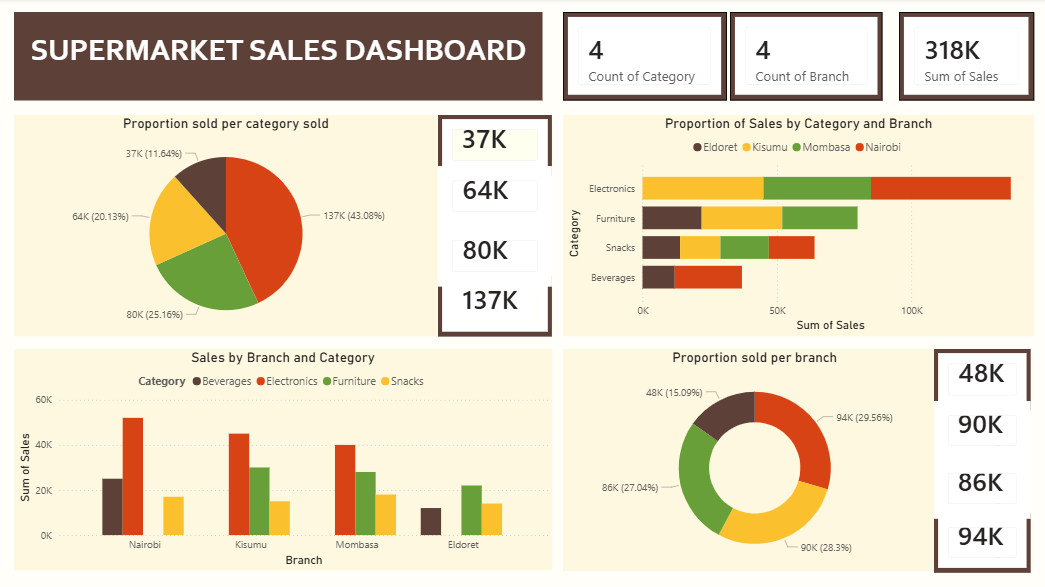

The page's visual inventory and layout, read from the dashboard file:
{"tool":"powerbi","page":{"name":"Sales","canvas":[1280,720],"ordinal":0},"visuals":[{"type":"cardVisual","fields":{"Data":["Sum(Sheet1.Sales)"]},"box":[1098.6,16.8,164.6,107.5],"z":0},{"type":"clusteredColumnChart","title":"Sales by Branch and Category","fields":{"Y":["Sum(Sheet1.Sales)"],"Category":["Sheet1.Branch"],"Series":["Sheet1.Category"]},"box":[18.5,428.3,656.8,270.4],"z":1000},{"type":"pieChart","title":"Proportion product category sold","fields":{"Category":["Sheet1.Category"],"Y":["Sum(Sheet1.Sales)"]},"box":[18.5,142.8,517.4,270.4],"z":2000},{"type":"barChart","title":"Proportion of Sales by Category and Branch","fields":{"Y":["Sum(Sheet1.Sales)"],"Category":["Sheet1.Category"],"Series":["Sheet1.Branch"]},"box":[688.2,143.1,575.3,269.8],"z":3000},{"type":"donutChart","title":"Proportion sold per branch","fields":{"Y":["Sum(Sheet1.Sales)"],"Category":["Sheet1.Branch"]},"box":[688.2,428,468,271.1],"z":4000},{"type":"cardVisual","fields":{"Data":["Count(Sheet1.Branch)"]},"box":[892,16.8,186.5,107.5],"z":5000},{"type":"cardVisual","fields":{"Data":["Count(Sheet1.Category)"]},"box":[688.7,16.8,199.9,107.5],"z":6000},{"type":"cardVisual","fields":{"Data":["Sum(Sheet1.Sales)"]},"box":[535.9,142.8,139.4,73.9],"z":7000},{"type":"cardVisual","fields":{"Data":["Sum(Sheet1.Sales)"]},"box":[535.9,339.3,139.4,73.9],"z":8000},{"type":"cardVisual","fields":{"Data":["Sum(Sheet1.Sales)"]},"box":[535.9,278.8,139.4,73.9],"z":9000},{"type":"cardVisual","fields":{"Data":["Sum(Sheet1.Sales)"]},"box":[535.9,204.9,139.4,73.9],"z":10000},{"type":"cardVisual","fields":{"Data":["Sum(Sheet1.Sales)"]},"box":[1141,428,118.4,74.3],"z":11000},{"type":"cardVisual","fields":{"Data":["Sum(Sheet1.Sales)"]},"box":[1141,629,118.4,72.9],"z":12000},{"type":"textbox","box":[18.5,16.8,645,107.5],"z":13000},{"type":"cardVisual","fields":{"Data":["Sum(Sheet1.Sales)"]},"box":[1141,562.9,118.4,72.9],"z":14000},{"type":"cardVisual","fields":{"Data":["Sum(Sheet1.Sales)"]},"box":[1141,491.4,118.4,72.9],"z":15000}]}

Visuals, with their boxes in screenshot pixels (x1, y1, x2, y2), scaled from the page's 1280x720 canvas onto the 1045x587 screenshot:
cardVisual - Sum(Sheet1.Sales): [left=897, top=14, right=1031, bottom=101]
"Sales by Branch and Category" clusteredColumnChart: [left=15, top=349, right=551, bottom=570]
"Proportion product category sold" pieChart: [left=15, top=116, right=438, bottom=337]
"Proportion of Sales by Category and Branch" barChart: [left=562, top=117, right=1032, bottom=337]
"Proportion sold per branch" donutChart: [left=562, top=349, right=944, bottom=570]
cardVisual - Count(Sheet1.Branch): [left=728, top=14, right=880, bottom=101]
cardVisual - Count(Sheet1.Category): [left=562, top=14, right=725, bottom=101]
cardVisual - Sum(Sheet1.Sales): [left=438, top=116, right=551, bottom=177]
cardVisual - Sum(Sheet1.Sales): [left=438, top=277, right=551, bottom=337]
cardVisual - Sum(Sheet1.Sales): [left=438, top=227, right=551, bottom=288]
cardVisual - Sum(Sheet1.Sales): [left=438, top=167, right=551, bottom=227]
cardVisual - Sum(Sheet1.Sales): [left=932, top=349, right=1028, bottom=410]
cardVisual - Sum(Sheet1.Sales): [left=932, top=513, right=1028, bottom=572]
textbox: [left=15, top=14, right=542, bottom=101]
cardVisual - Sum(Sheet1.Sales): [left=932, top=459, right=1028, bottom=518]
cardVisual - Sum(Sheet1.Sales): [left=932, top=401, right=1028, bottom=460]
